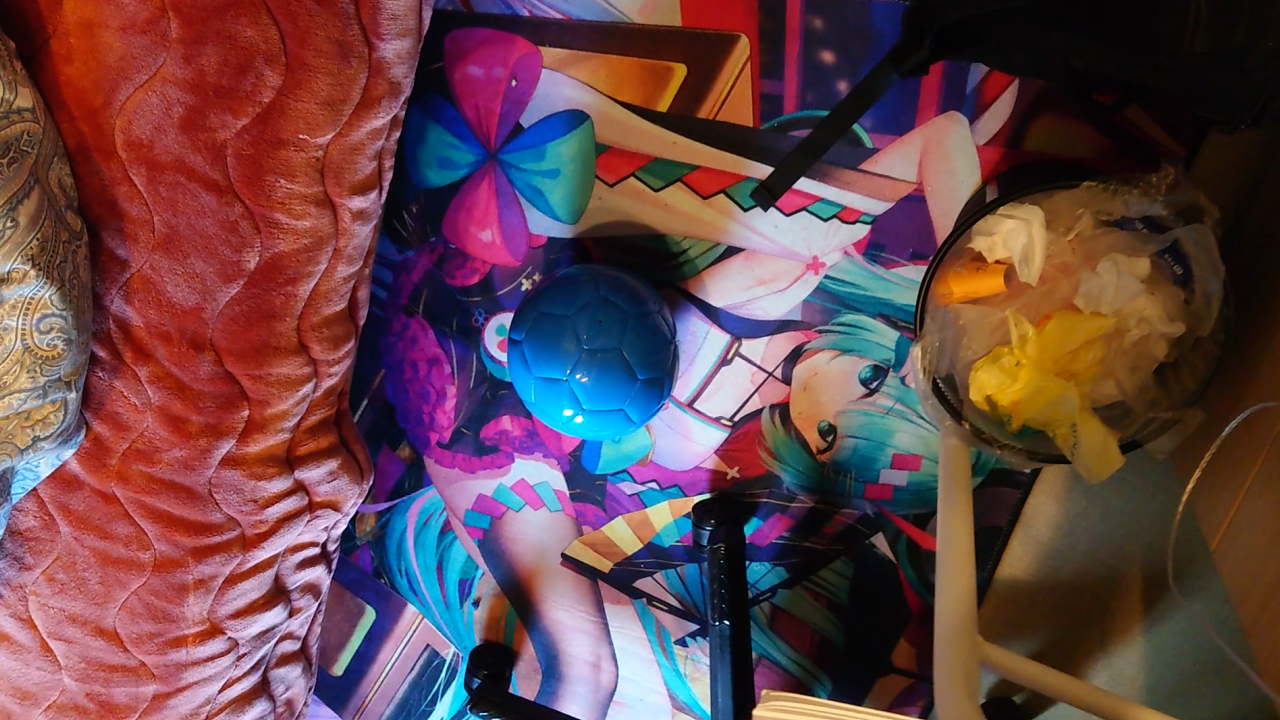BlueBall: (506, 264, 677, 445)
